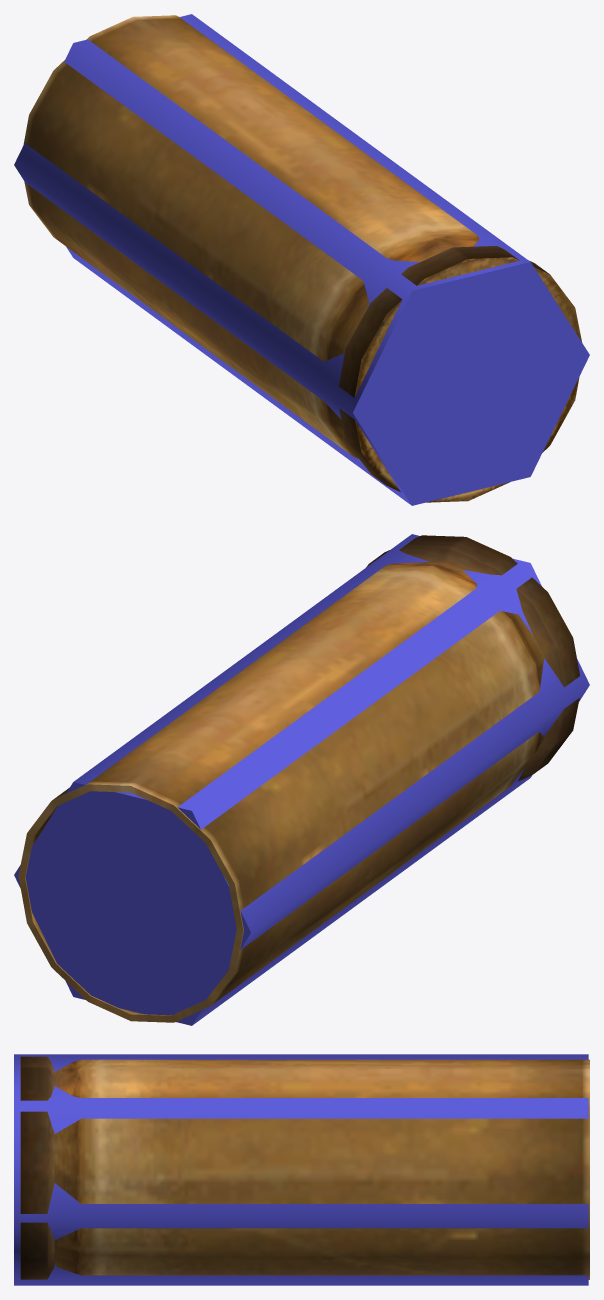
The model's file is RifleShell.DAE.
The picture shows the model from 3 angles, top to bottom: view 1: azimuth 30°, elevation 25°; view 2: azimuth 150°, elevation 25°; view 3: azimuth 270°, elevation 25°; orthographic projection. The views are drawn at different scales.
Parts seen in each view (by area): view 1: RifleShell1, Col-1; view 2: RifleShell1, Col-1; view 3: RifleShell1, Col-1.
Part boxes in pixels (x1,y1,x2,y2): RifleShell1: [23, 15, 581, 502]; Col-1: [14, 14, 589, 505]; RifleShell1: [18, 535, 579, 1022]; Col-1: [14, 534, 589, 1025]; RifleShell1: [20, 1056, 589, 1279]; Col-1: [14, 1054, 588, 1285].
Bounding box in the file's own units: 0.0358 × 0.0887 × 0.0349.
2 materials, 1 textured.
